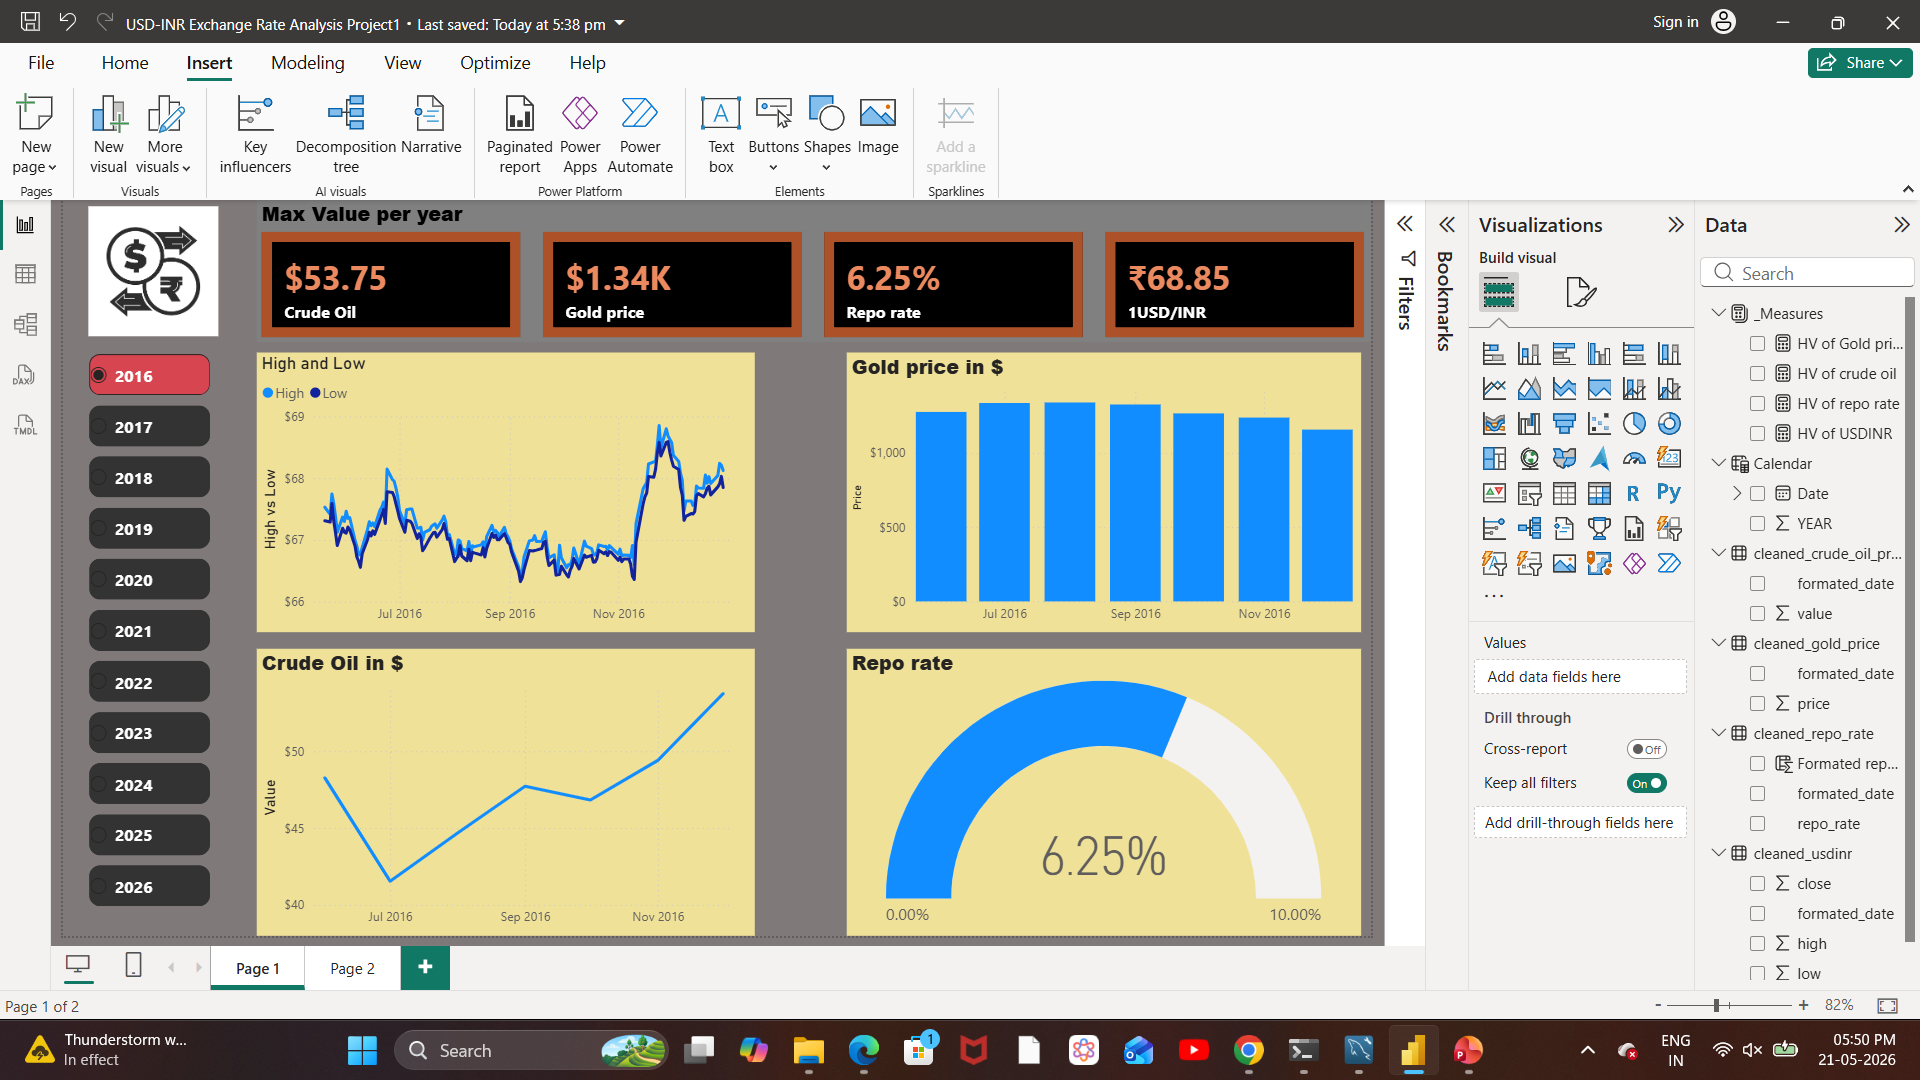

The dashboard page shown, as its layout file describes it:
{"tool":"powerbi","page":{"name":"Page 1","canvas":[1280,720],"ordinal":0},"visuals":[{"type":"lineChart","title":"High and Low ","fields":{"Category":["cleaned_usdinr.formated_date"],"Y":["Sum(cleaned_usdinr.high)","Sum(cleaned_usdinr.low)"]},"box":[189.6,149.7,487.5,273.7],"z":0},{"type":"listSlicer","fields":{"Values":["Calendar.YEAR"]},"box":[20.8,126,128.4,594.3],"z":1000},{"type":"cardVisual","title":"Max Value per year","fields":{"Data":["_Measures.HV of Crude oil","_Measures.HV of  Gold price","_Measures.HV of repo rate","_Measures.HV of USDINR"]},"box":[189.5,0,1090.8,139.4],"z":2000},{"type":"columnChart","title":"Gold price in $","fields":{"Category":["cleaned_gold_price.formated_date"],"Y":["Sum(cleaned_gold_price.price)"]},"box":[766.9,149.7,503.2,273.7],"z":3000},{"type":"lineChart","title":"Crude Oil in $","fields":{"Category":["cleaned_crude_oil_price.formated_date"],"Y":["Sum(cleaned_crude_oil_price.value)"]},"box":[189.6,439,487.5,280.8],"z":4000},{"type":"gauge","title":"Repo rate","fields":{"Y":["Max(cleaned_repo_rate.Formated repo_rate)"]},"box":[767,439,503,281],"z":5000},{"type":"image","box":[0,6.1,177.3,127.2],"z":5001}]}

Visuals, with their boxes on the page's 1280x720 design canvas (x1, y1, x2, y2). These are canvas units, not pixel positions in the 1920x1080 screenshot, which may show the page scaled, cropped or inside an application window:
"High and Low " lineChart: (left=190, top=150, right=677, bottom=423)
listSlicer - Calendar.YEAR: (left=21, top=126, right=149, bottom=720)
"Max Value per year" cardVisual: (left=190, top=0, right=1280, bottom=139)
"Gold price in $" columnChart: (left=767, top=150, right=1270, bottom=423)
"Crude Oil in $" lineChart: (left=190, top=439, right=677, bottom=720)
"Repo rate" gauge: (left=767, top=439, right=1270, bottom=720)
image: (left=0, top=6, right=177, bottom=133)
